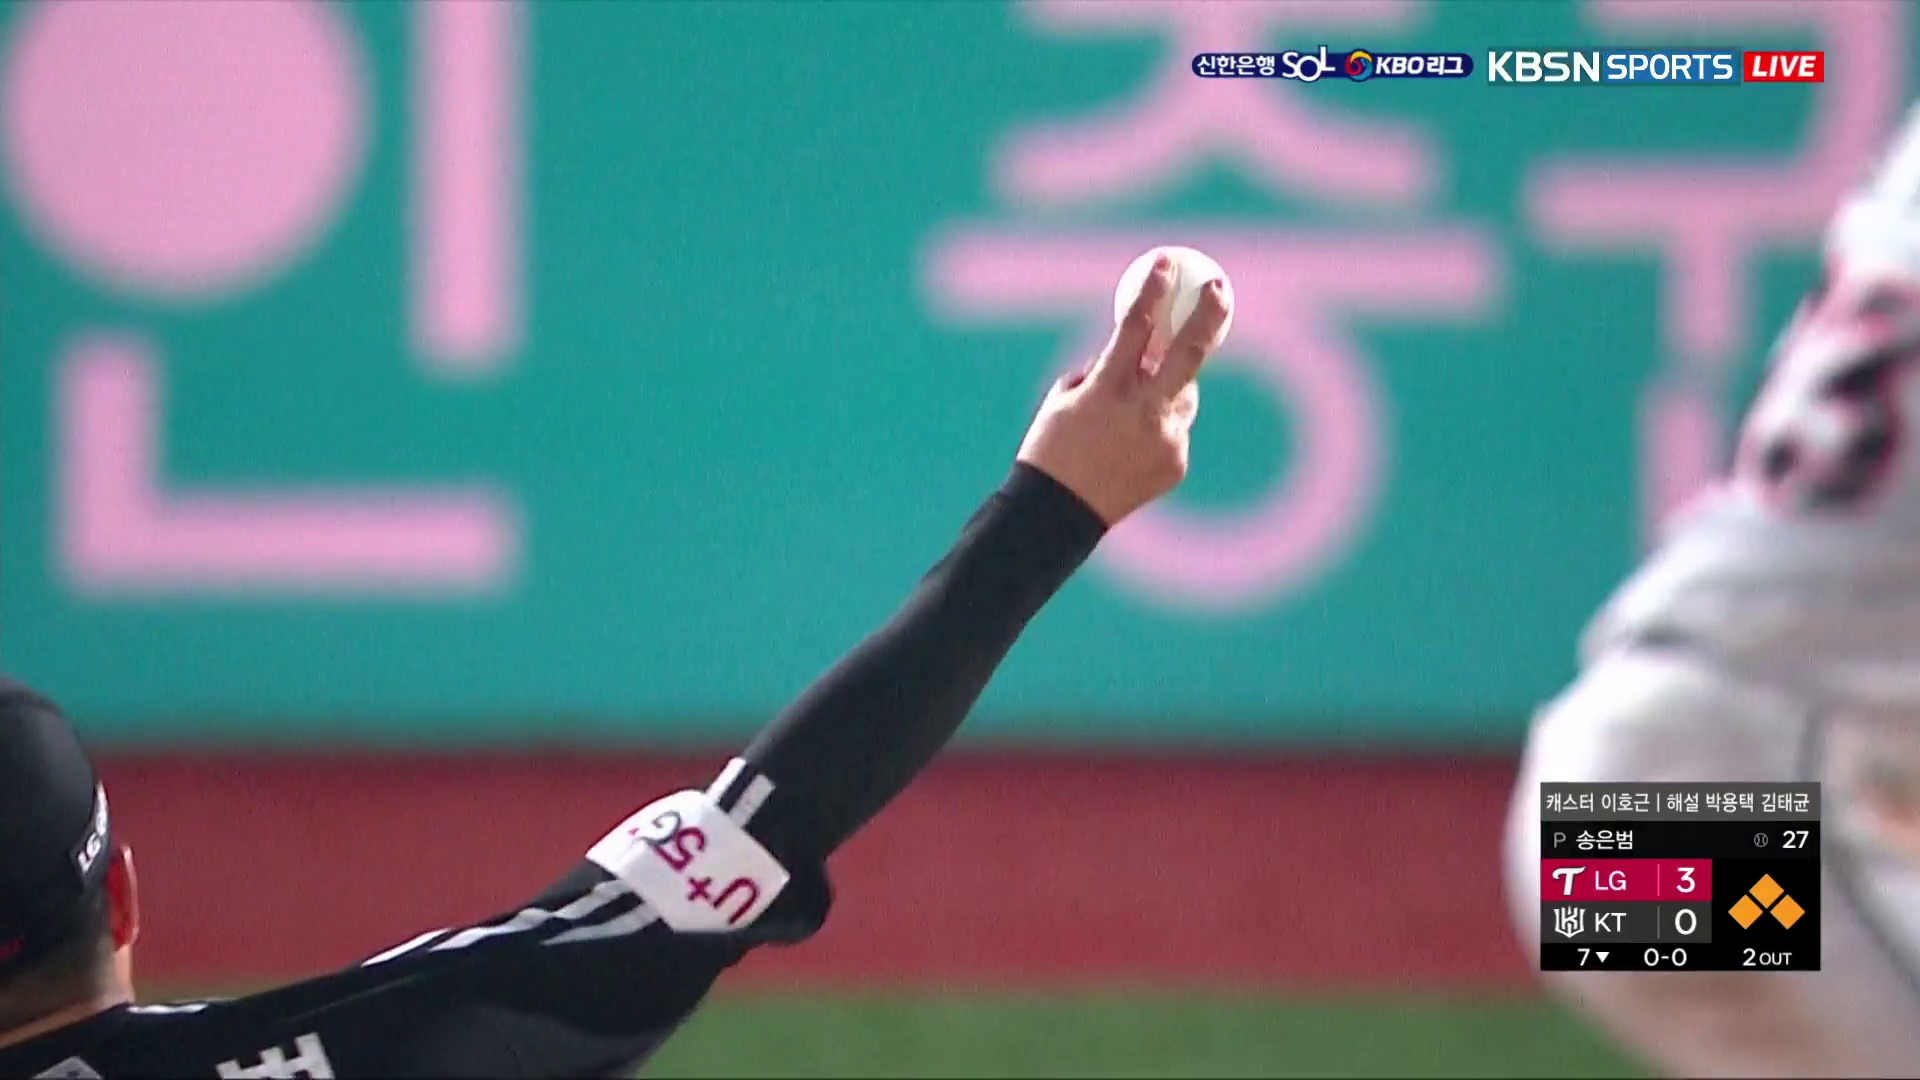zoomin_hand: (600, 233, 1246, 965)
